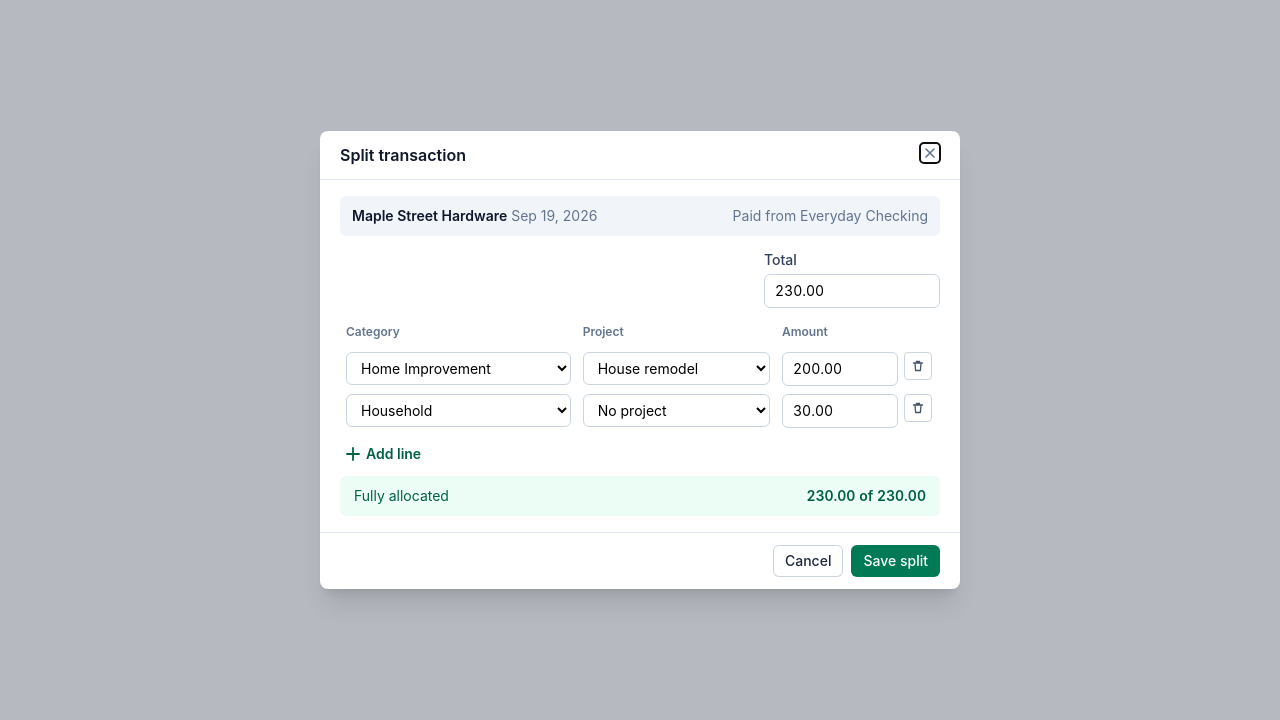
Test: split editor › names a missing category as the reason once a blank line is added
Click the button "Add line": click(384, 454) [340,440,427,468]
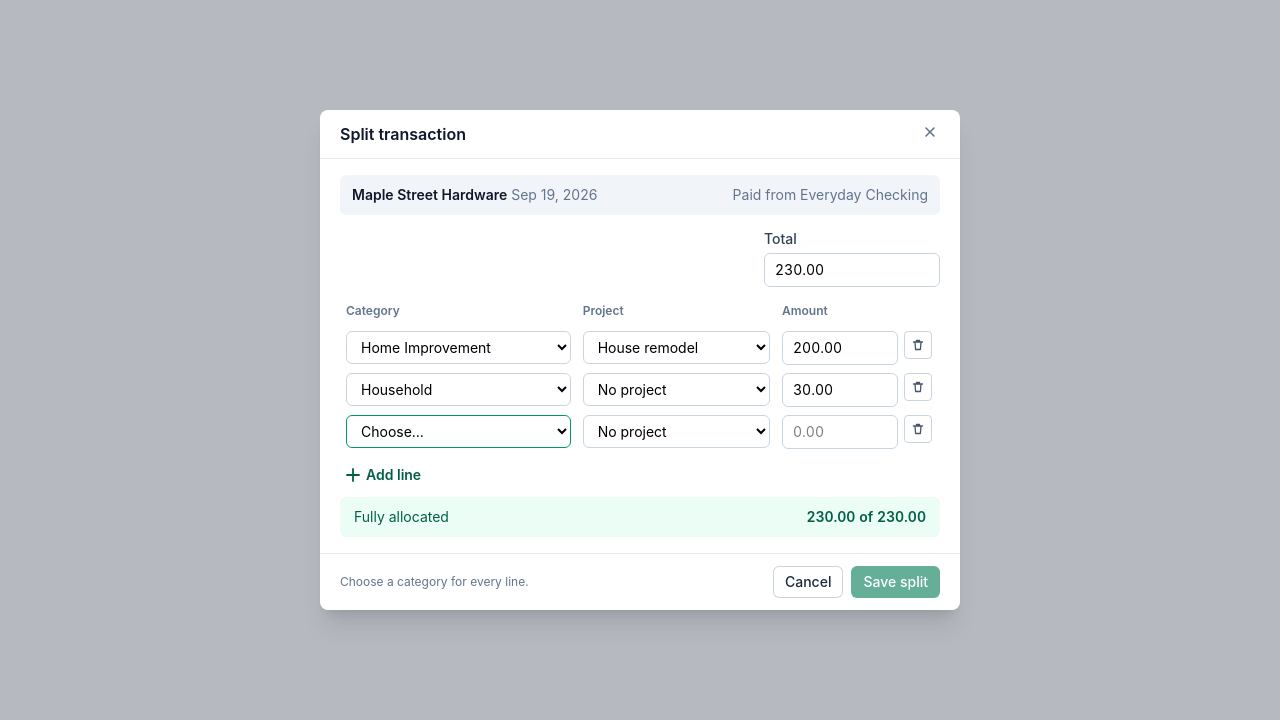
Now the button "Save split" is disabled, box [852,566,940,598]
